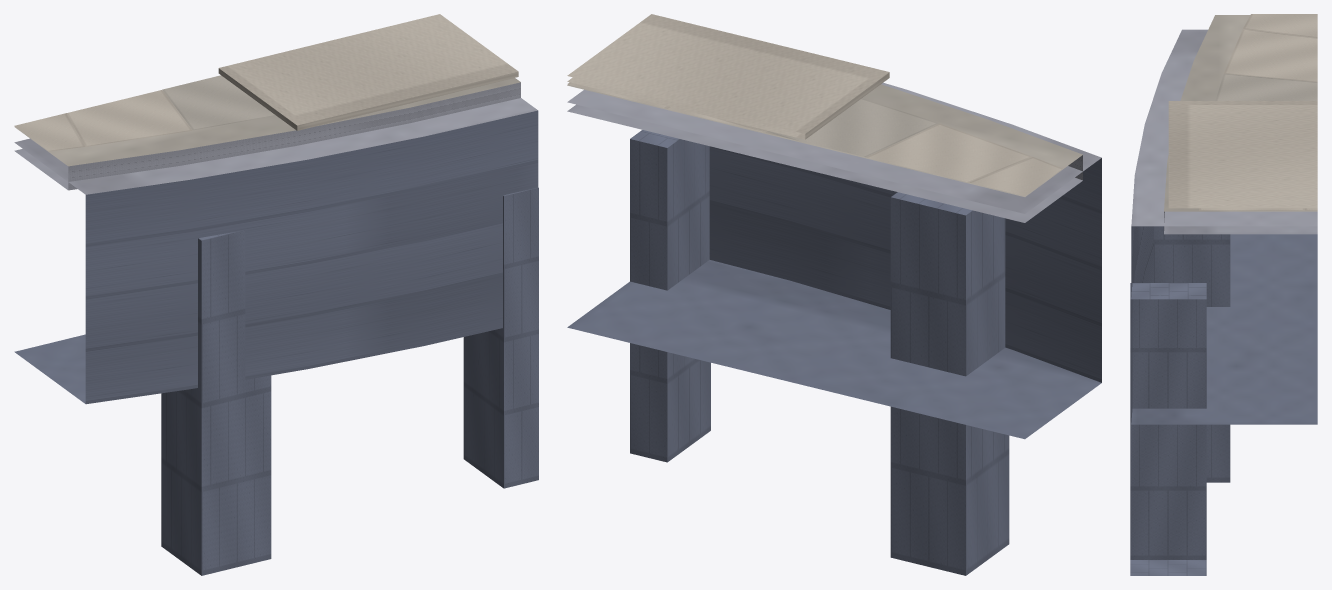
Rendered from high_crown_fracture_31.obj.
The picture shows the model from 3 angles, left to right: view 1: azimuth 30°, elevation 25°; view 2: azimuth 150°, elevation 25°; view 3: azimuth 270°, elevation 25°; orthographic projection. The views are drawn at different scales.
Parts seen in each view (by area): view 1: ArenaFracture31; view 2: ArenaFracture31; view 3: ArenaFracture31.
Boxes of the visible parts, x1=… form: ArenaFracture31: x1=14, y1=14, x2=538, y2=575; ArenaFracture31: x1=567, y1=14, x2=1101, y2=575; ArenaFracture31: x1=1130, y1=14, x2=1317, y2=575.
Bounding box in the file's own units: 10 × 9.41 × 4.02.
Materials: 4 (4 with a texture image).
